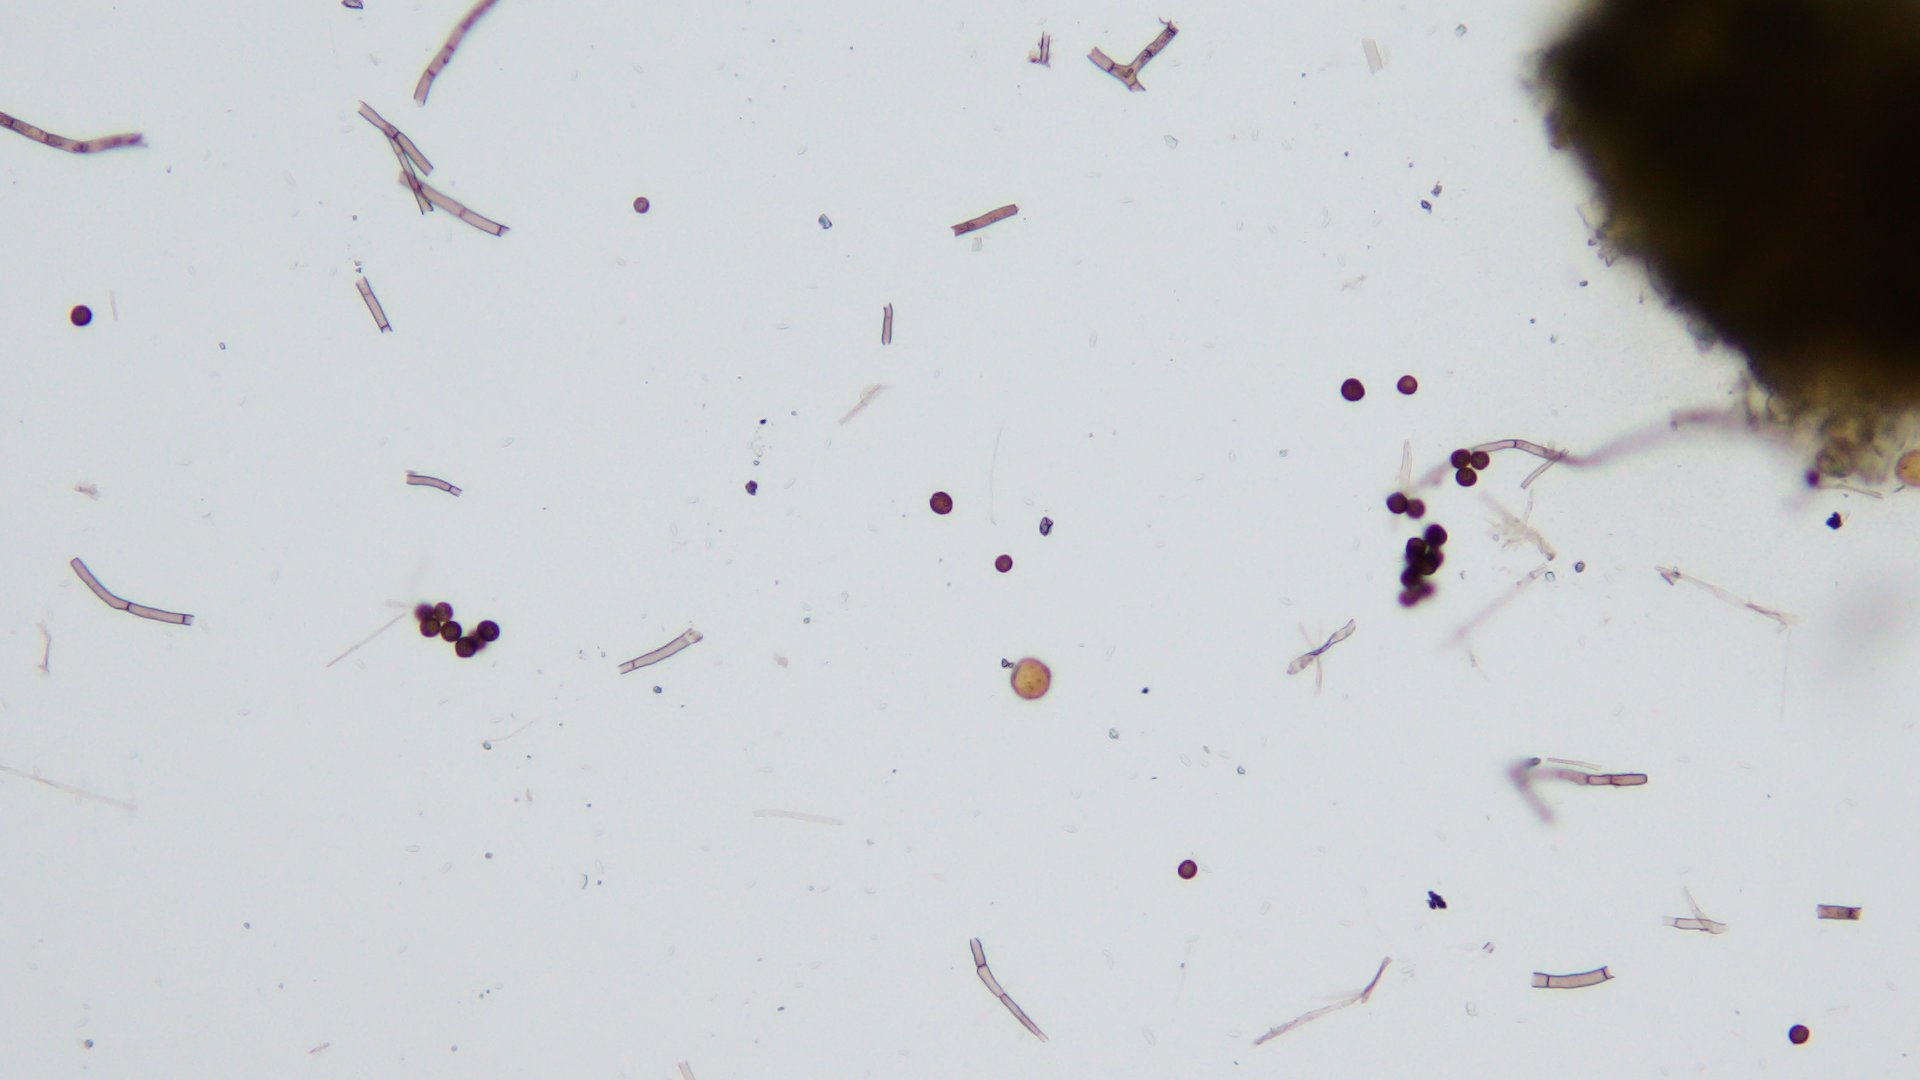shs_spore: (1383, 491, 1408, 516), (1423, 525, 1451, 547), (1338, 378, 1365, 401), (928, 492, 953, 514), (475, 621, 501, 642), (1452, 467, 1480, 487), (454, 637, 477, 659), (1396, 375, 1419, 397), (1449, 447, 1472, 469), (1403, 538, 1425, 560), (69, 305, 91, 326), (992, 553, 1013, 574), (1469, 450, 1490, 471), (1404, 497, 1425, 518), (434, 601, 454, 622), (1178, 858, 1197, 880), (1788, 1025, 1811, 1043), (419, 618, 440, 637), (442, 622, 463, 641), (414, 605, 436, 620)
xb_spore: (1009, 659, 1054, 699)
